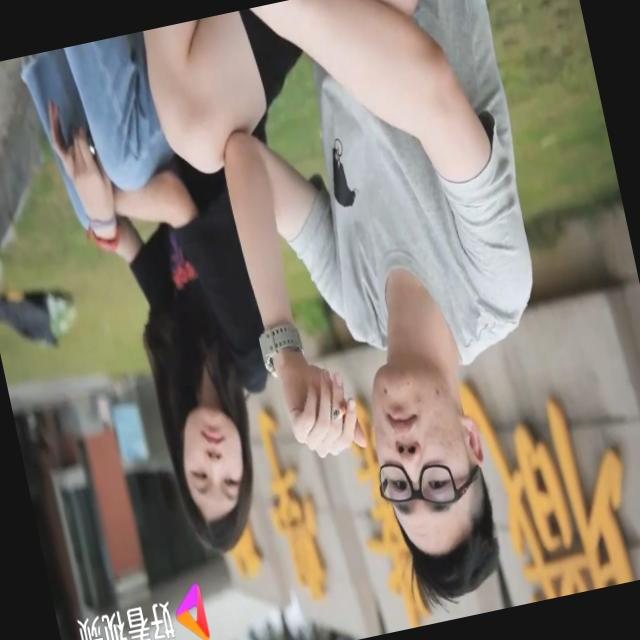smoke: (322, 392, 359, 431)
